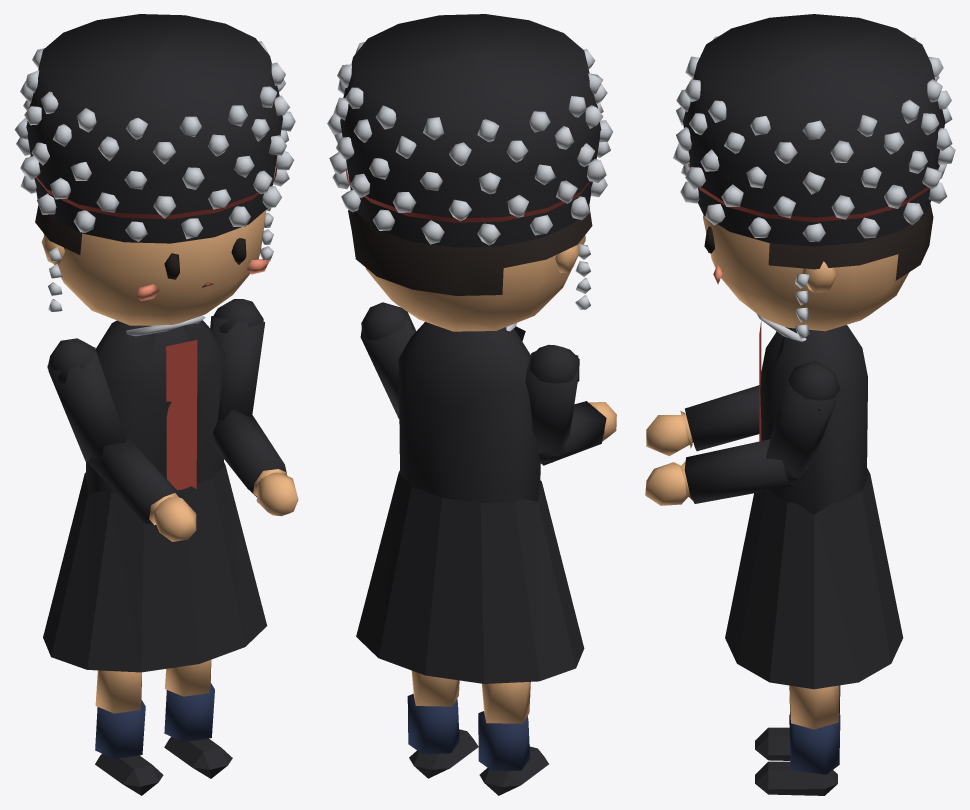
File: north_akha_woman.glb
3 views of the same model, side by side, from view 1: azimuth 30°, elevation 25°; view 2: azimuth 150°, elevation 25°; view 3: azimuth 270°, elevation 25° (orthographic).
Visible parts, largest first — view 1: head, body, shin_R, arm_R, forearm_R, shin_L, forearm_L, arm_L; view 2: head, body, shin_R, shin_L, arm_R, arm_L, forearm_R; view 3: head, body, shin_L, forearm_L, arm_L, forearm_R, shin_R.
Part boxes in pixels (left/top/right/bottom): head: left=14, top=14, right=295, bottom=325; body: left=43, top=315, right=267, bottom=672; shin_R: left=95, top=670, right=163, bottom=795; arm_R: left=47, top=338, right=126, bottom=461; forearm_R: left=88, top=433, right=196, bottom=541; shin_L: left=164, top=660, right=232, bottom=778; forearm_L: left=213, top=410, right=298, bottom=516; arm_L: left=210, top=299, right=265, bottom=421; head: left=327, top=14, right=612, bottom=331; body: left=356, top=322, right=584, bottom=683; shin_R: left=478, top=682, right=548, bottom=795; shin_L: left=407, top=670, right=478, bottom=778; arm_R: left=525, top=344, right=579, bottom=463; arm_L: left=360, top=302, right=416, bottom=418; forearm_R: left=541, top=401, right=616, bottom=465; head: left=673, top=14, right=955, bottom=339; body: left=725, top=313, right=903, bottom=689; shin_L: left=755, top=685, right=840, bottom=795; forearm_L: left=645, top=439, right=806, bottom=505; arm_L: left=766, top=360, right=840, bottom=480; forearm_R: left=646, top=385, right=759, bottom=456; shin_R: left=755, top=685, right=840, bottom=760.
Bounding box in the file's own units: 0.5565 × 1.59 × 0.6152.
